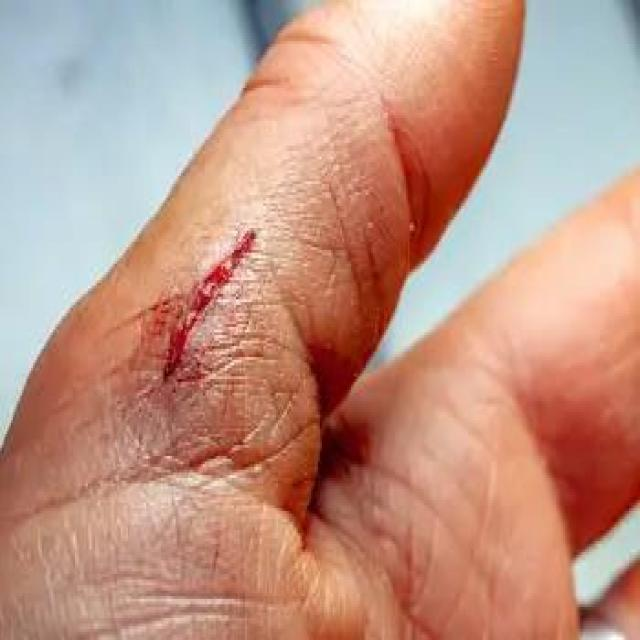flood: (140, 205, 276, 398)
